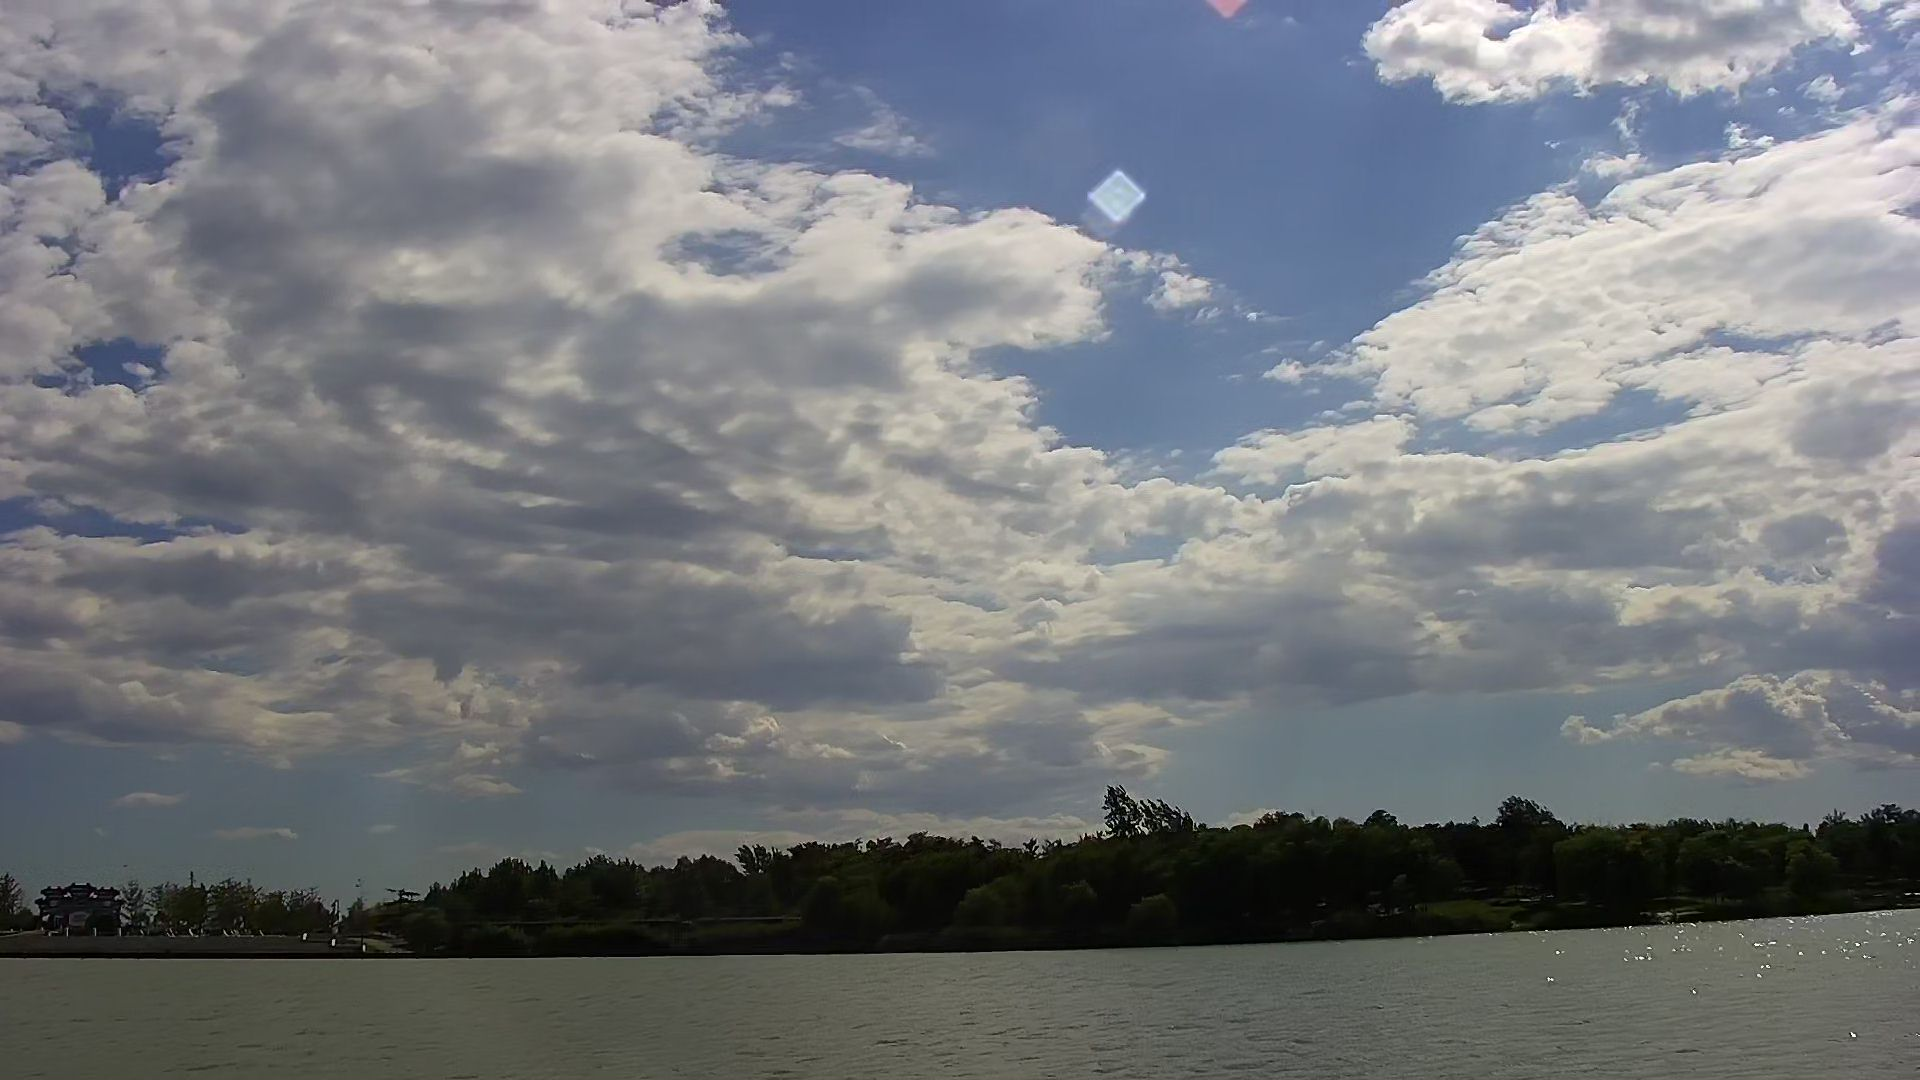harbor: (5, 919, 415, 960)
